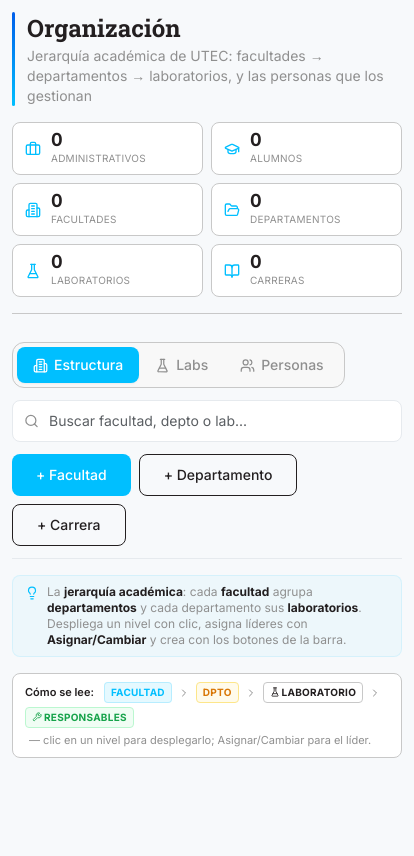
Test: OrganizacionPage › los grupos de rol son DESPLEGABLES (details con conteo en el encabezado)
Check: the heading "Organización" is shown, box [27,12,181,44]
Click the button "Personas" at (282, 365), box [224,347,340,383]
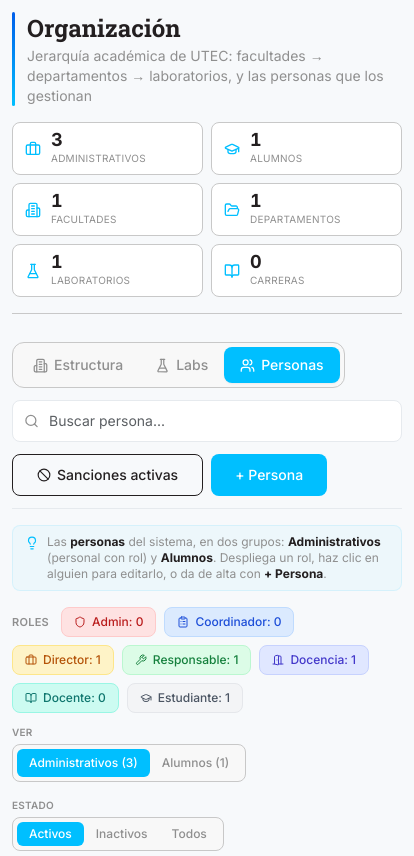
Check: the text "personas" is shown, box [70,534,125,549]
